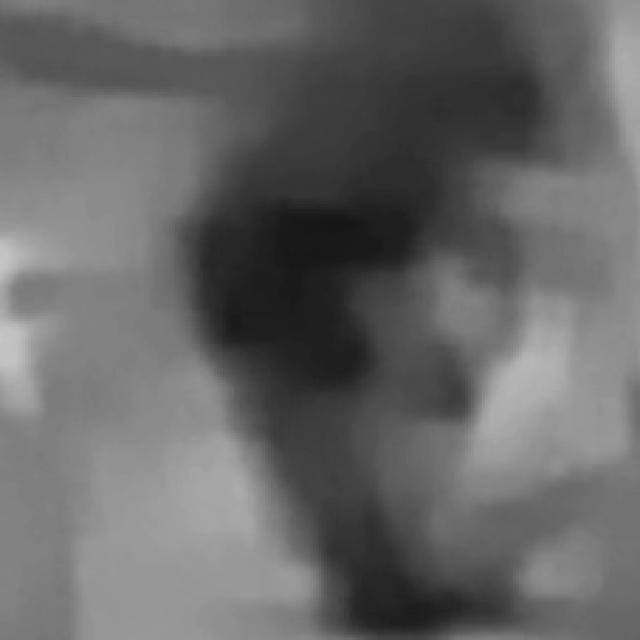Weapon: (181, 16, 580, 632)
